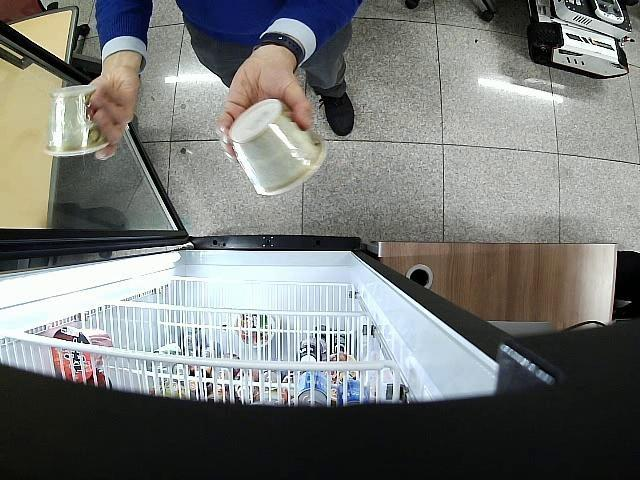04_chapagetti_S: (230, 99, 329, 196), (44, 84, 110, 156)
